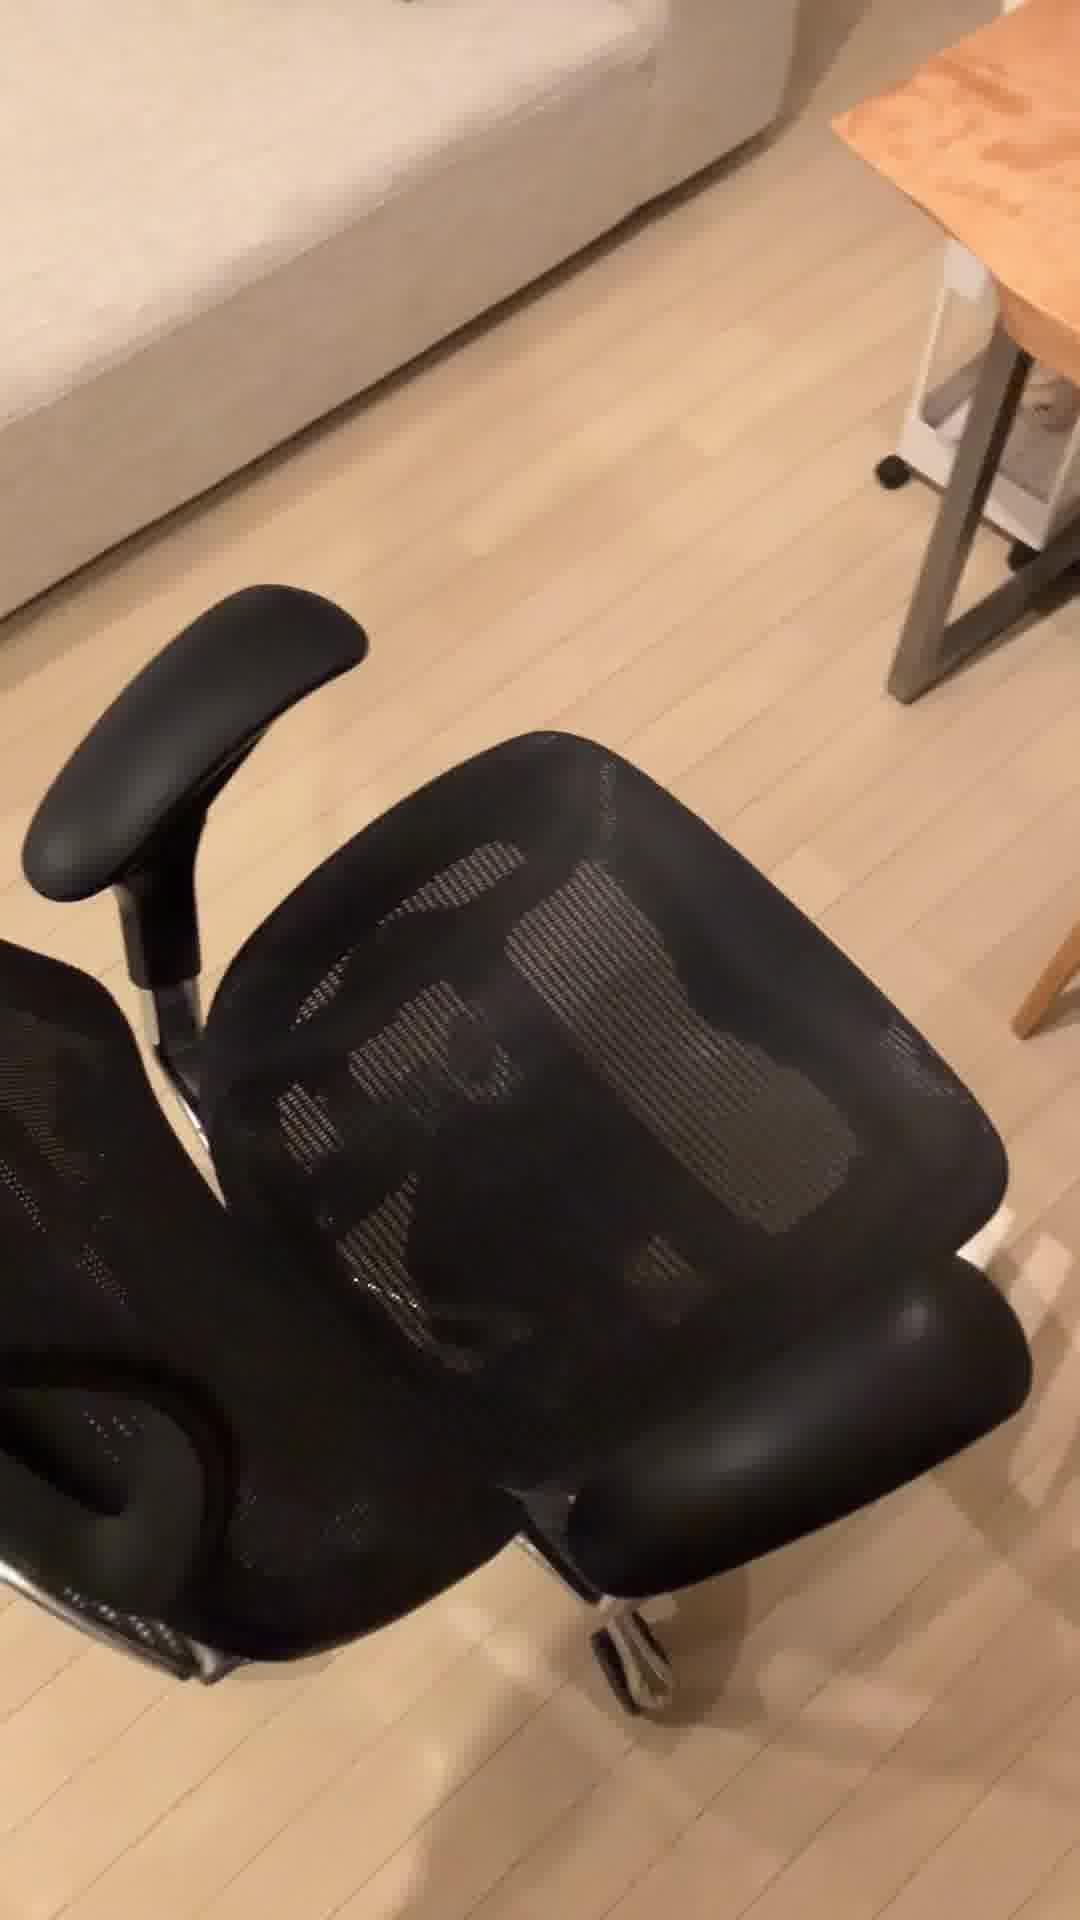okamura-contessa: (0, 575, 1038, 1725)
